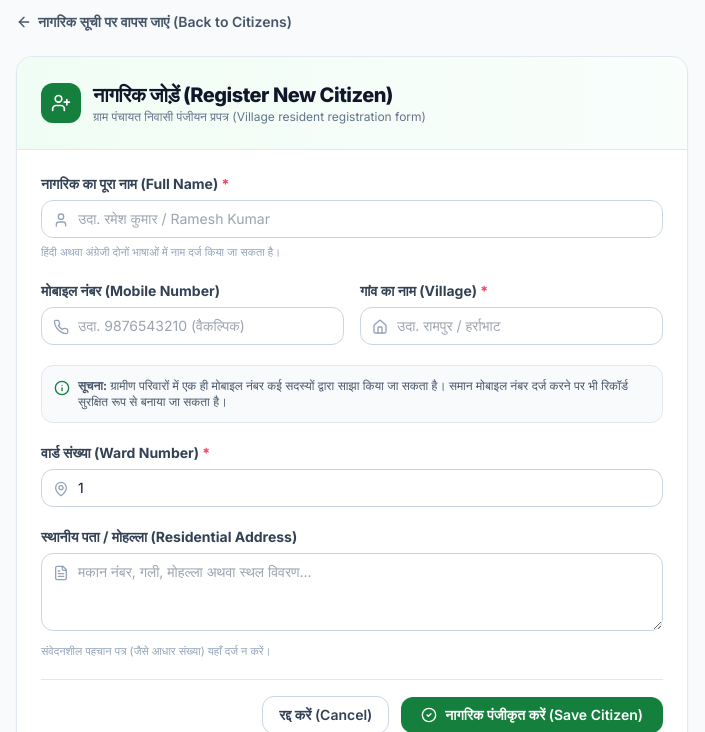
Test: AddCitizenPage Component › displays validation errors when required fields are missing
Note: Clear default wardNumber to trigger error
Clear the number field labelled "वार्ड संख्या (Ward Number) *" at (352, 488), box top-left (41, 468), bottom-right (663, 506)
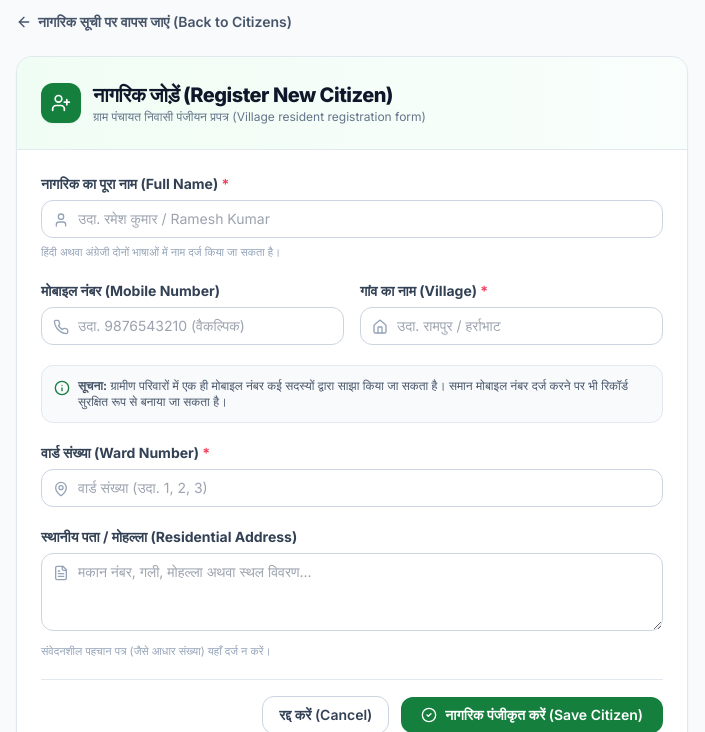
Click the button "नागरिक पंजीकृत करें (Save Citizen)" at (532, 715), box top-left (401, 697), bottom-right (663, 731)
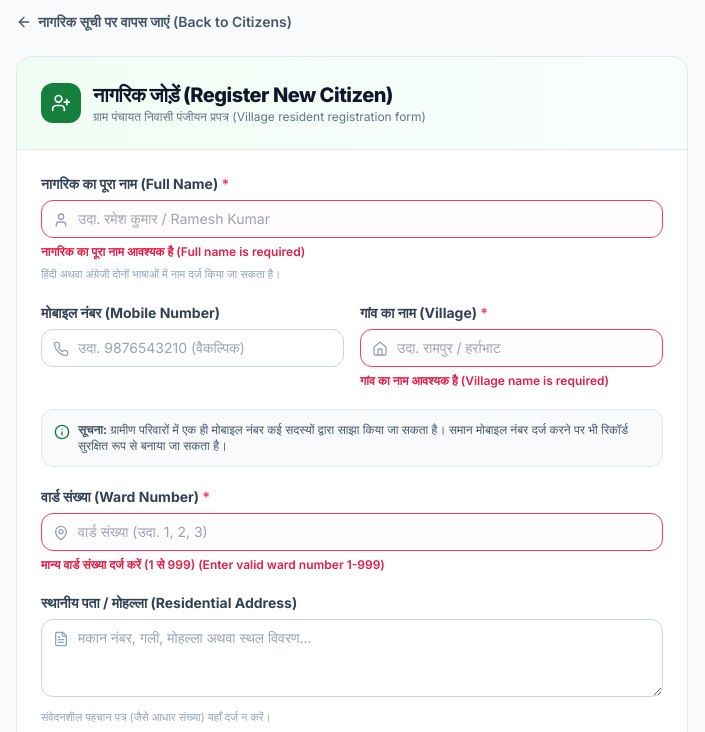
Check: the text "नागरिक का पूरा नाम आवश्यक है (Full name is required)" is shown, box top-left (41, 244), bottom-right (305, 259)
Check: the text "गांव का नाम आवश्यक है (Village name is required)" is shown, box top-left (360, 372), bottom-right (609, 388)
Check: the text "मान्य वार्ड संख्या दर्ज करें" is shown, box top-left (41, 556), bottom-right (385, 572)
